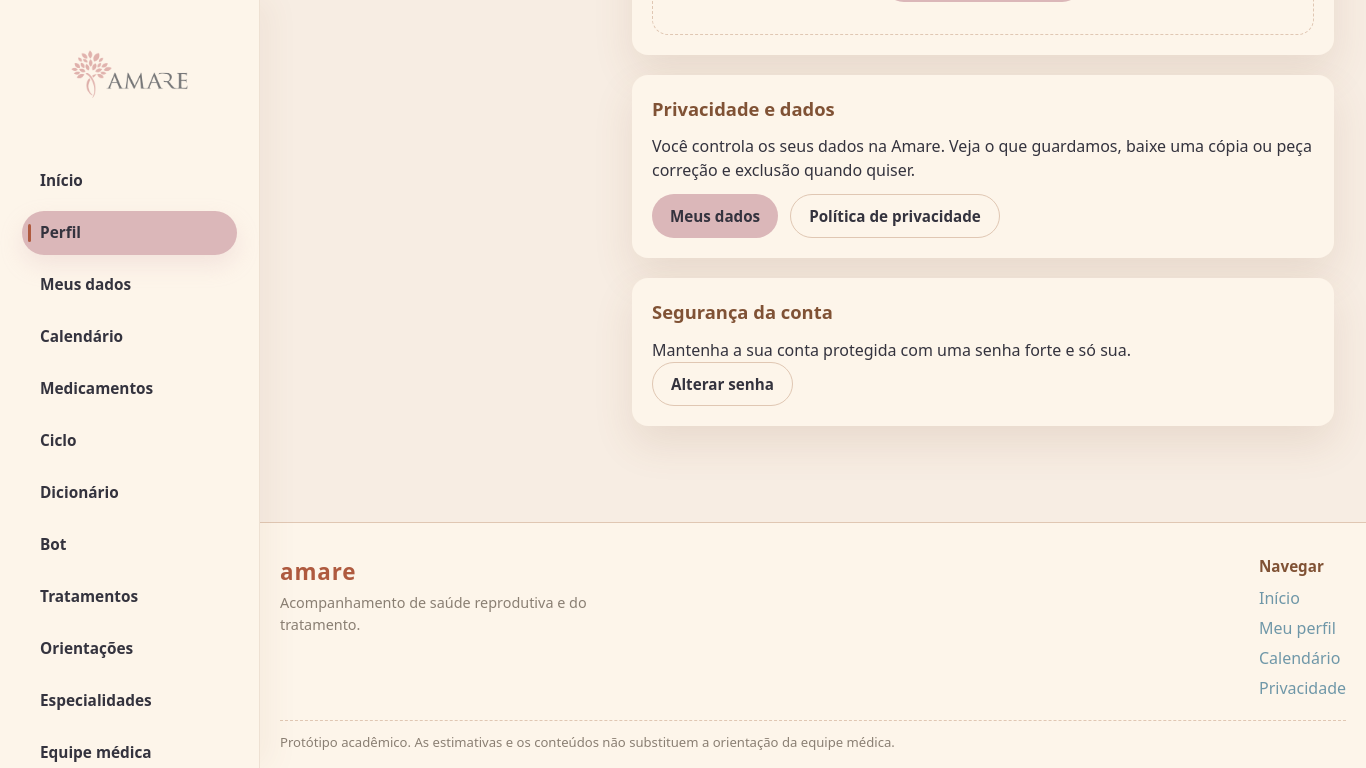
Scenario: Segurança da conta — alterar senha › troca a senha com sucesso e mostra toast
(page scrolled)
Click the button with test id "perfil-alterar-senha-abrir" at (723, 384), box [652,362,793,406]
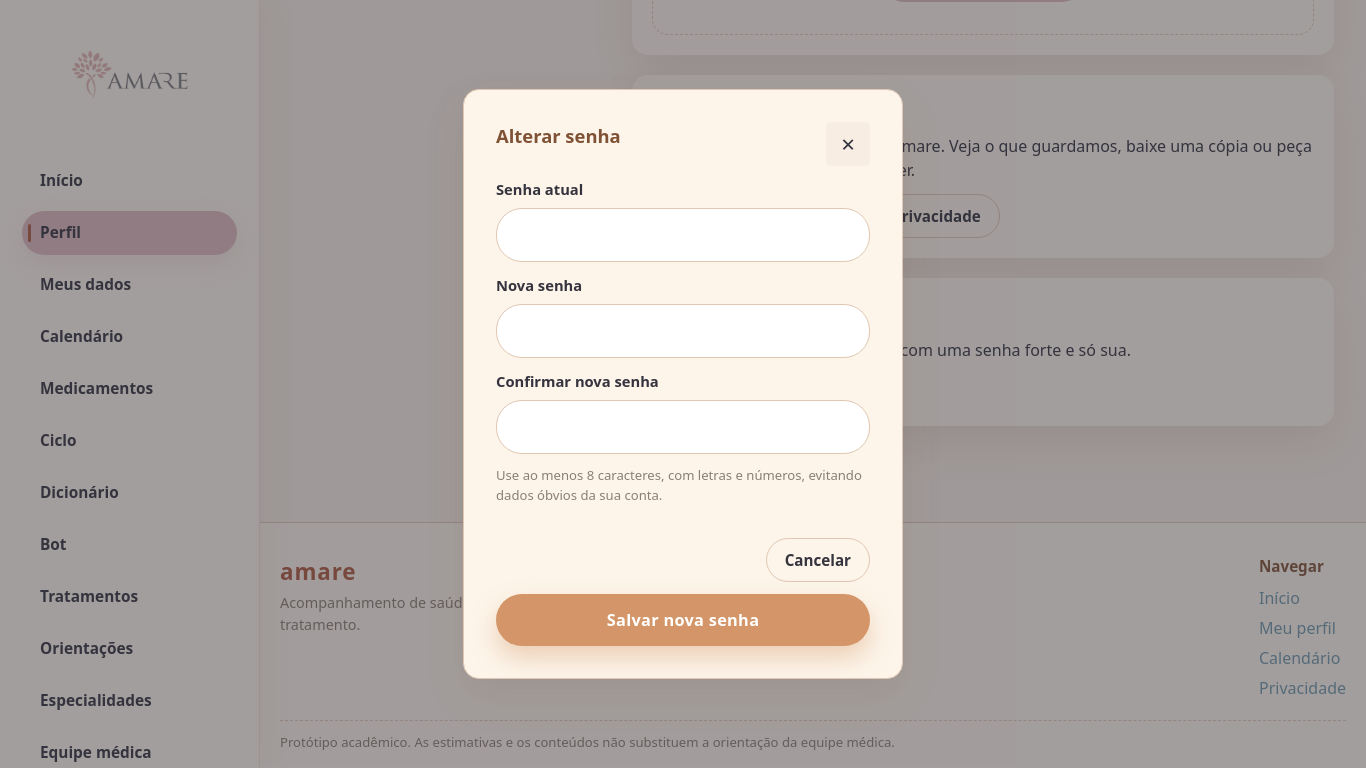
Type "PrimeiraChave2026" into the password field with test id "alterar-senha-atual" at (683, 235), box [517,209,849,261]
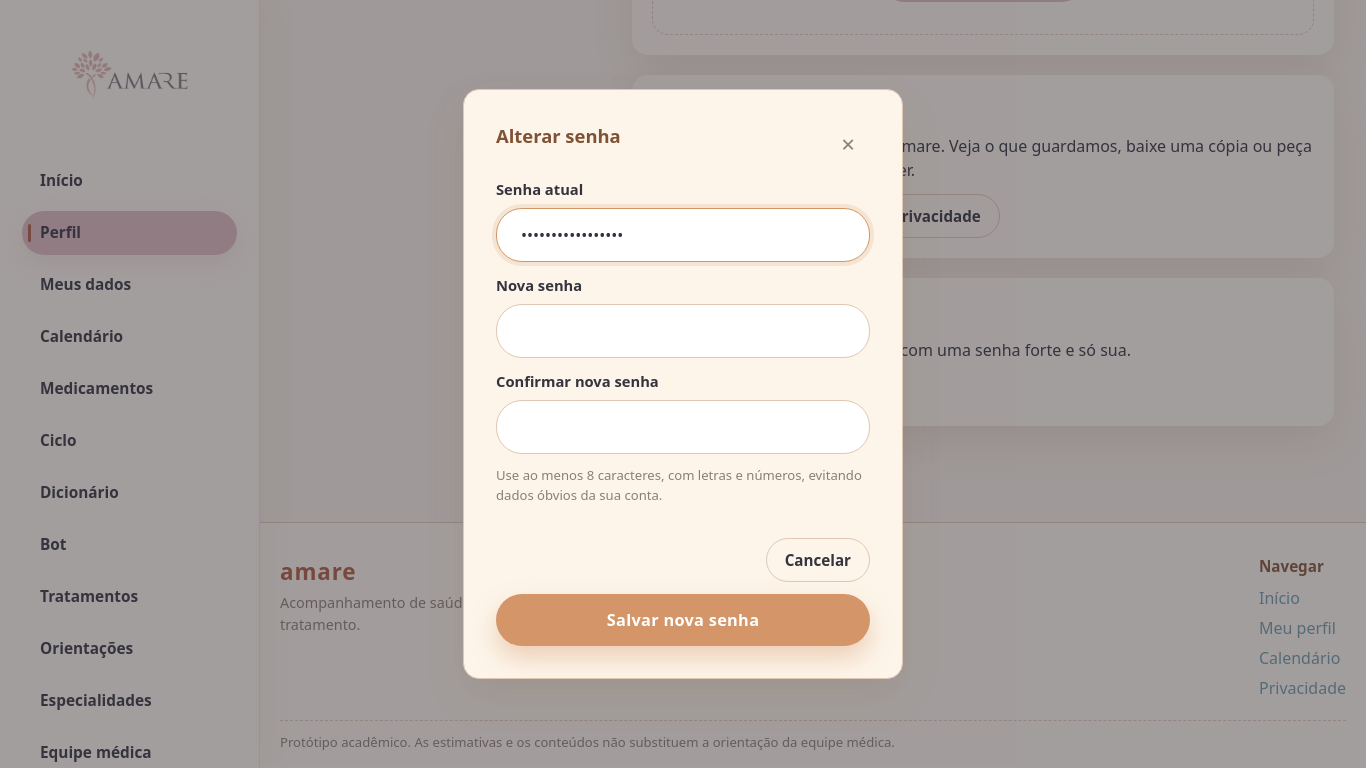
Type "OutraChave2027!" into the password field with test id "alterar-senha-nova" at (683, 331), box [517,305,849,357]
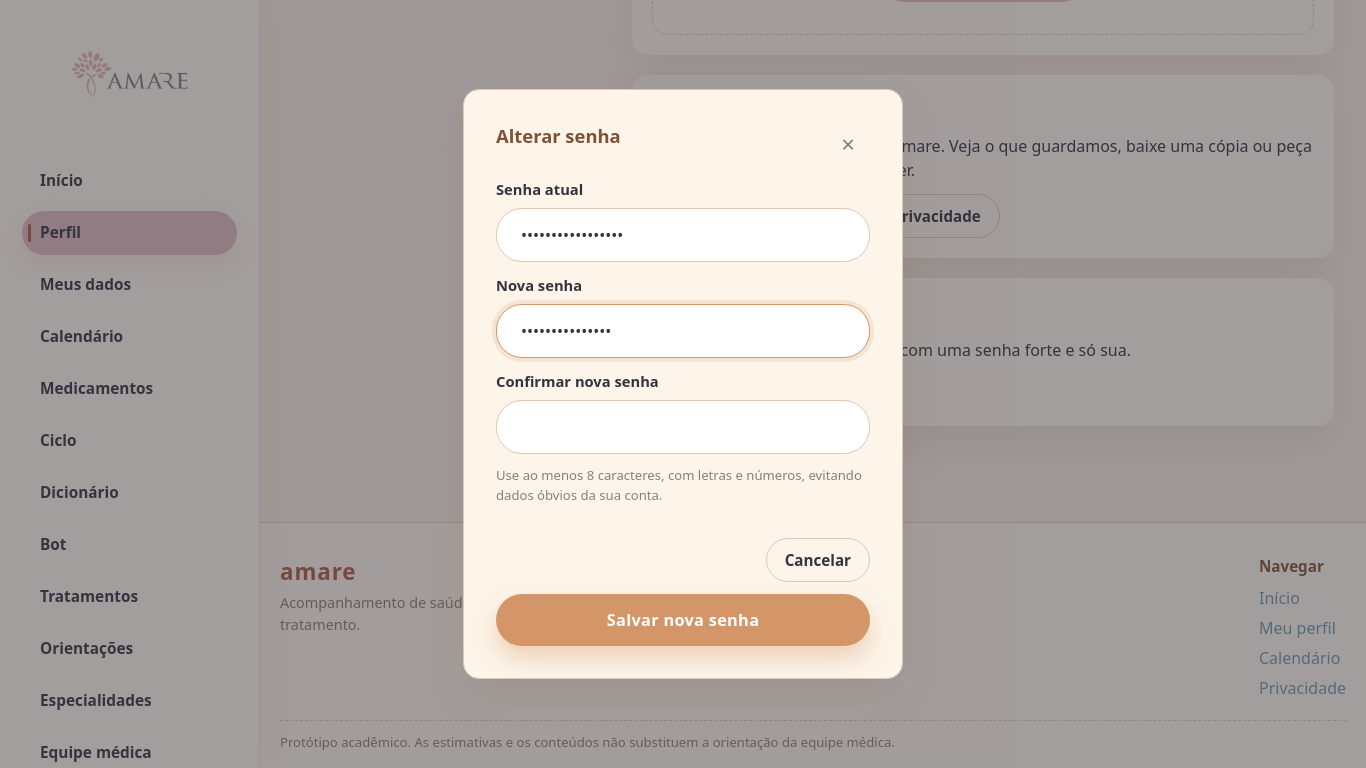
Type "OutraChave2027!" into the password field with test id "alterar-senha-confirmar" at (683, 427), box [517,401,849,453]
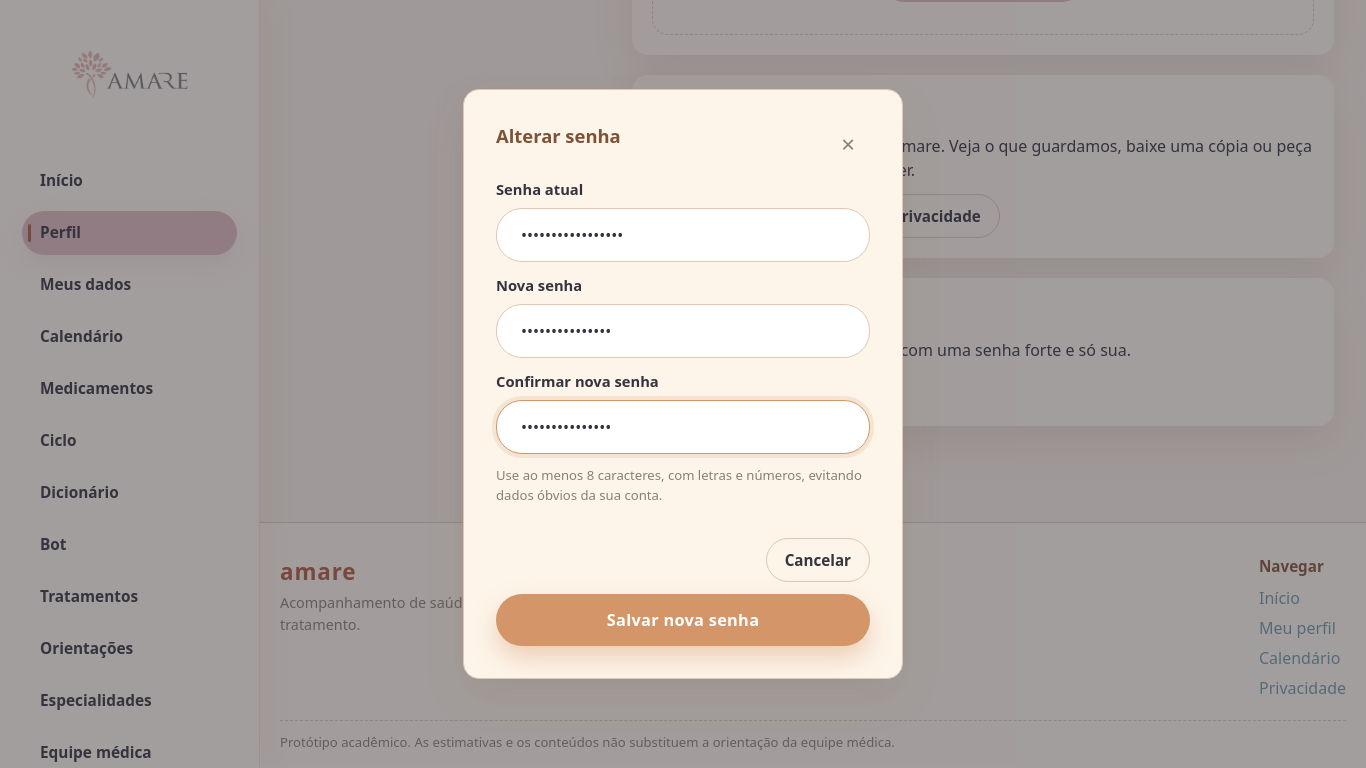
Click the button with test id "alterar-senha-salvar" at (683, 620), box [496,594,870,646]
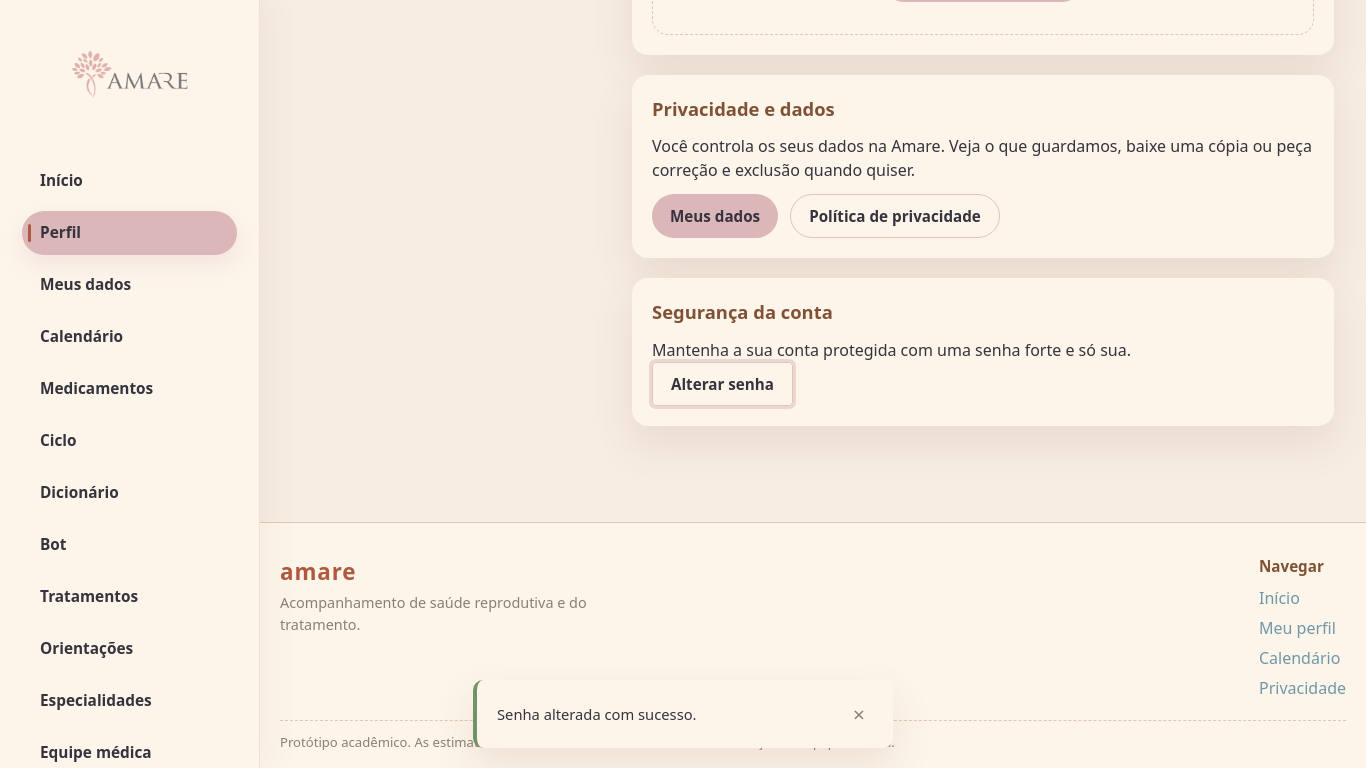
Check: the message "Senha alterada com sucesso. ×" is shown, box [473,680,893,748]
Check: the text with test id "toast" reads "Senha alterada com sucesso.", box [497,704,697,724]
Check: the dialog with test id "alterar-senha" is gone
